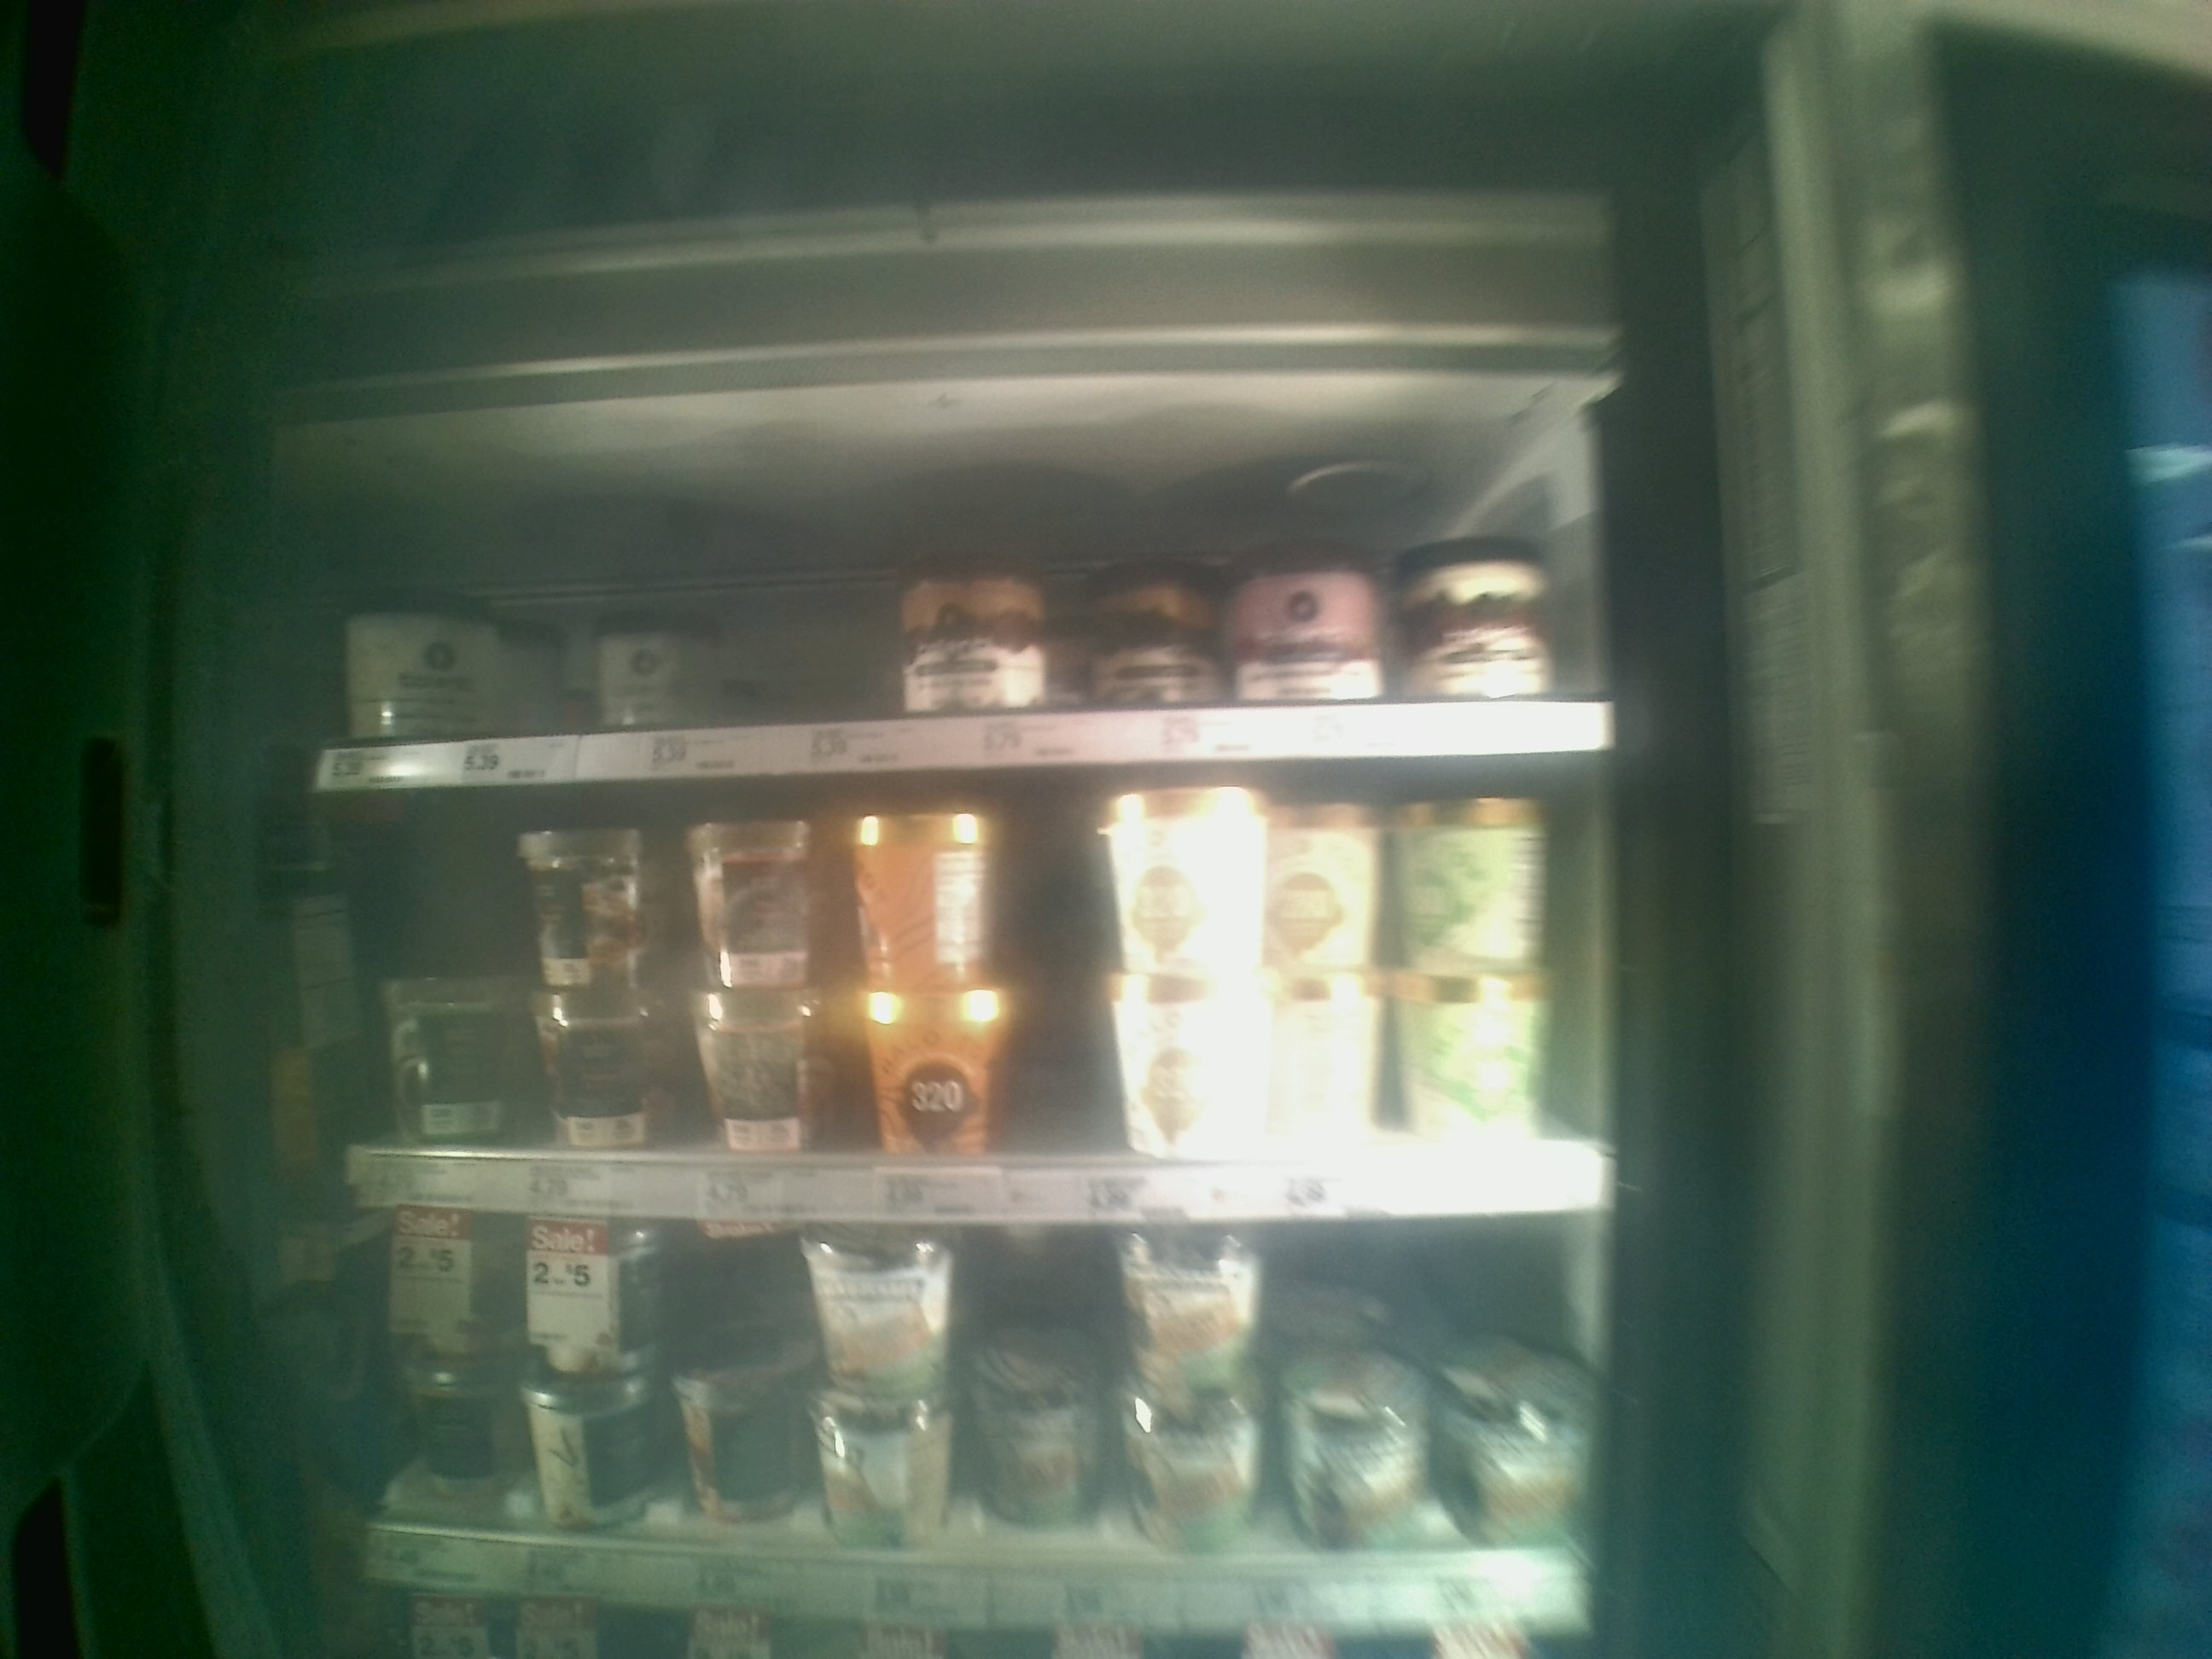shelf: (320, 751, 1622, 1220), (341, 1213, 1601, 1622), (314, 425, 1623, 788)
